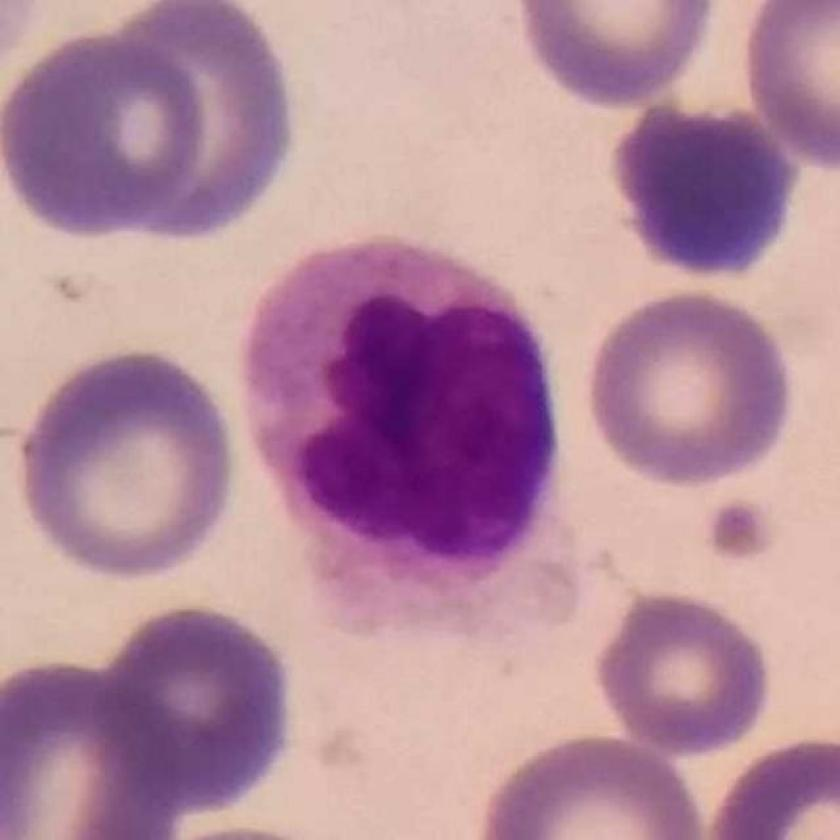monocyte: (239, 228, 600, 655)
